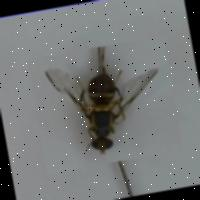Oriental-fruit-fly: (26, 34, 182, 172)
